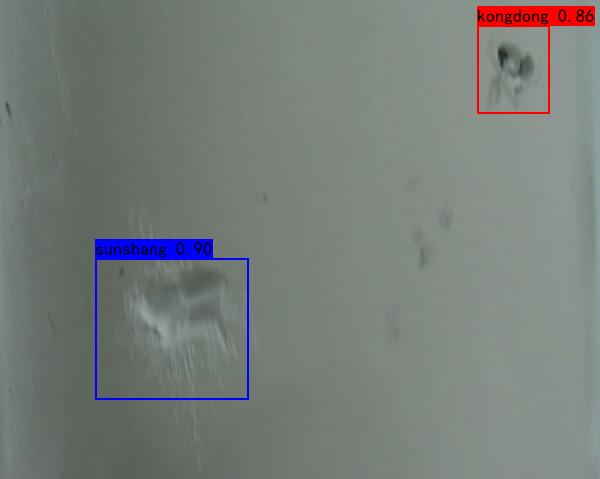kongdong: (483, 43, 547, 95)
sunshang: (114, 260, 250, 351)
